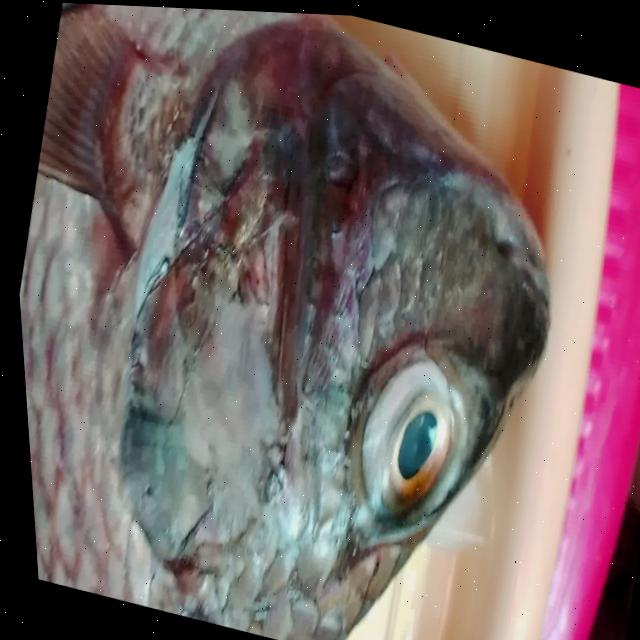Fresh: (291, 324, 508, 593)
